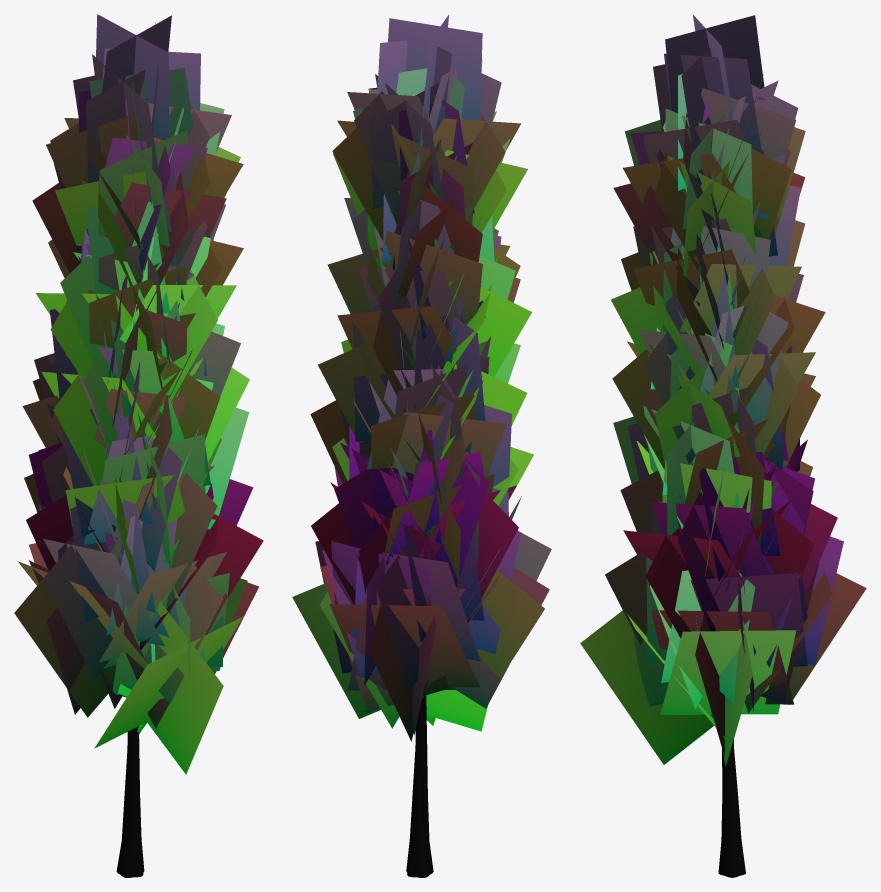
Rendered from Tree_6_4.fbx.
The picture shows the model from 3 angles, left to right: view 1: azimuth 30°, elevation 25°; view 2: azimuth 150°, elevation 25°; view 3: azimuth 270°, elevation 25°; orthographic projection.
Parts seen in each view (by area): view 1: _4; view 2: _4; view 3: _4.
Part boxes in pixels (<box>): _4: <box>14,14,263,877</box>; _4: <box>292,15,551,877</box>; _4: <box>580,14,866,877</box>.
Size of the model in its own units: 484 by 1645 by 505.
